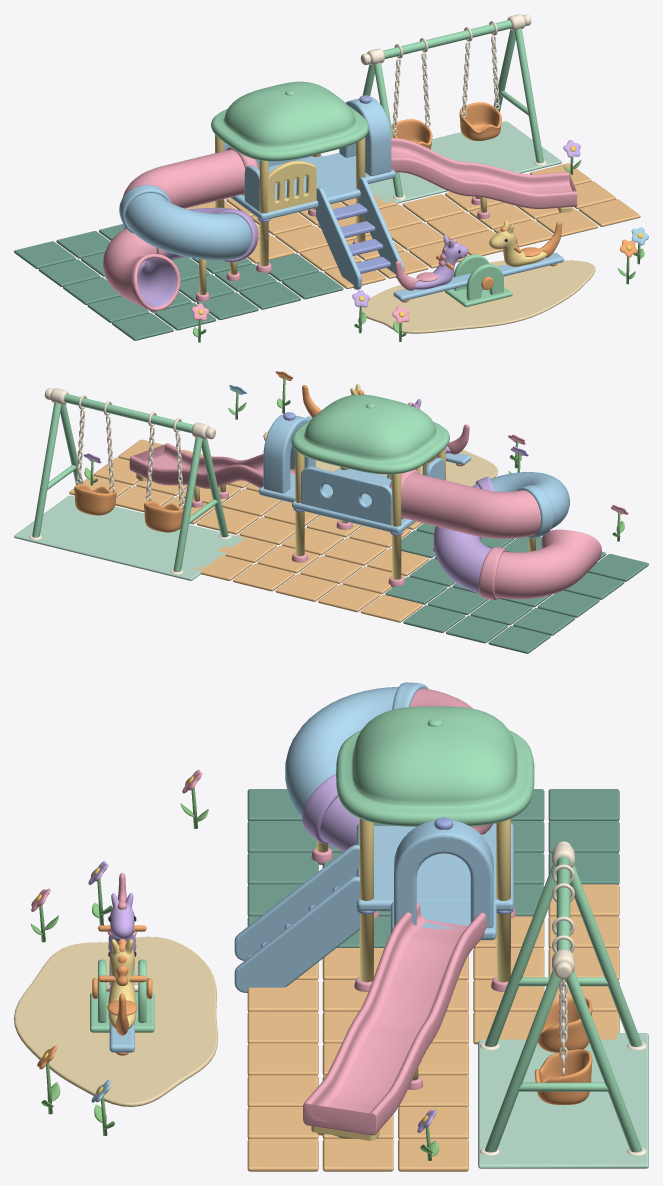
File: Playground.fbx
The picture shows the model from 3 angles, top to bottom: view 1: azimuth 30°, elevation 25°; view 2: azimuth 150°, elevation 25°; view 3: azimuth 270°, elevation 25°; orthographic projection. The views are drawn at different scales.
Visible parts, largest first — view 1: PG_Ground, PG_Tower, PG_TubeSlide, PG_Slide, PG_SwingFrame, PG_Seesaw_Beam, PG_Swing_2, PG_Flowers, PG_SeesawBase, PG_Swing_1; view 2: PG_Ground, PG_Tower, PG_TubeSlide, PG_SwingFrame, PG_Slide, PG_Swing_2, PG_Swing_1, PG_Flowers, PG_Seesaw_Beam; view 3: PG_Ground, PG_Tower, PG_Slide, PG_SwingFrame, PG_TubeSlide, PG_Seesaw_Beam, PG_Flowers, PG_Swing_2, PG_SeesawBase, PG_Swing_1.
Part boxes in pixels (left/top/right/bottom): PG_Ground: left=14, top=121, right=640, bottom=340; PG_Tower: left=211, top=81, right=404, bottom=289; PG_TubeSlide: left=103, top=147, right=258, bottom=311; PG_Slide: left=391, top=138, right=577, bottom=219; PG_SwingFrame: left=360, top=14, right=546, bottom=199; PG_Seesaw_Beam: left=393, top=220, right=563, bottom=302; PG_Swing_2: left=459, top=21, right=501, bottom=140; PG_Flowers: left=191, top=140, right=648, bottom=342; PG_SeesawBase: left=445, top=254, right=512, bottom=307; PG_Swing_1: left=391, top=38, right=432, bottom=149; PG_Ground: left=14, top=431, right=648, bottom=653; PG_Tower: left=258, top=394, right=449, bottom=587; PG_TubeSlide: left=389, top=469, right=601, bottom=600; PG_SwingFrame: left=29, top=388, right=231, bottom=574; PG_Slide: left=129, top=443, right=295, bottom=507; PG_Swing_2: left=74, top=395, right=116, bottom=515; PG_Swing_1: left=144, top=412, right=184, bottom=532; PG_Flowers: left=83, top=371, right=628, bottom=541; PG_Seesaw_Beam: left=302, top=384, right=471, bottom=466; PG_Ground: left=14, top=789, right=648, bottom=1171; PG_Tower: left=234, top=706, right=534, bottom=992; PG_Slide: left=303, top=903, right=486, bottom=1140; PG_SwingFrame: left=480, top=841, right=646, bottom=1155; PG_TubeSlide: left=285, top=682, right=493, bottom=864; PG_Seesaw_Beam: left=98, top=873, right=146, bottom=1055; PG_Flowers: left=31, top=769, right=439, bottom=1160; PG_Swing_2: left=534, top=916, right=592, bottom=1105; PG_SeesawBase: left=90, top=959, right=154, bottom=1032; PG_Swing_1: left=538, top=864, right=592, bottom=1052.
Bounding box in the file's own units: 5.26 × 1.52 × 3.71.
